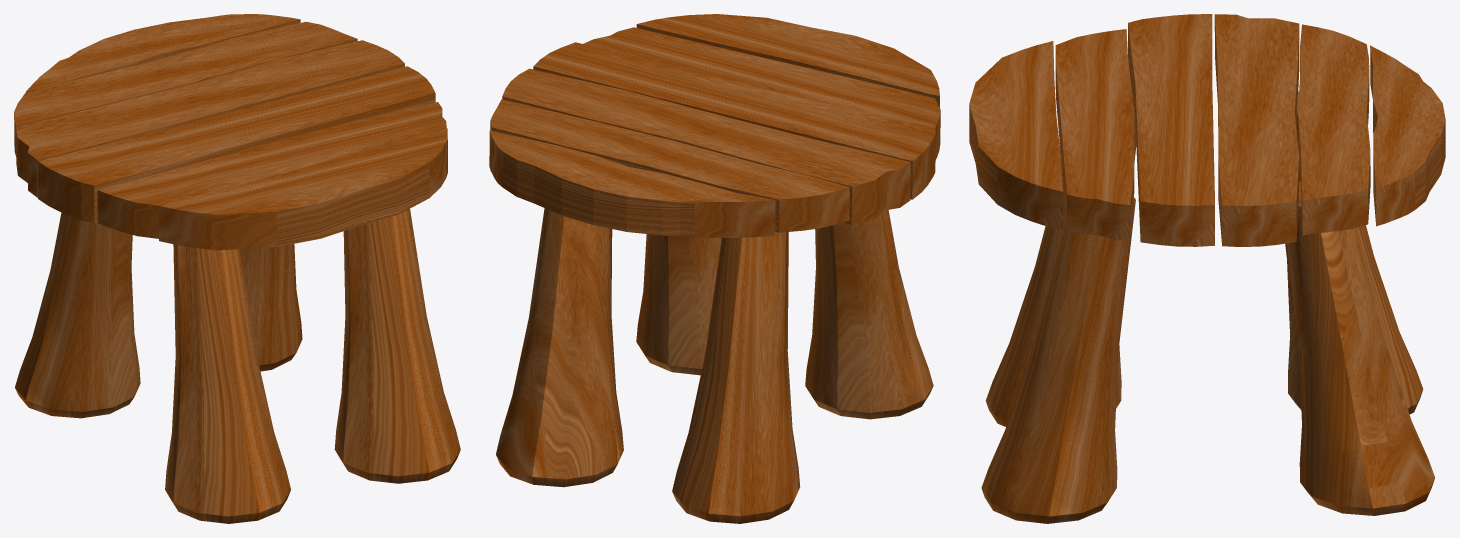
Rendered from littleChair.fbx.
The picture shows the model from 3 angles, left to right: view 1: azimuth 30°, elevation 25°; view 2: azimuth 150°, elevation 25°; view 3: azimuth 270°, elevation 25°; orthographic projection. The views are drawn at different scales.
Visible parts, largest first — view 1: Cube.010, Cube.008, Cube.003, Cube.011, Cube.001, Cube.004, Cube.002, Cube.005, Cube.006, Cube.012; view 2: Cube.011, Cube.012, Cube.010, Cube.006, Cube.004, Cube.001, Cube.005, Cube.002, Cube.003, Cube.008; view 3: Cube.008, Cube.012, Cube.004, Cube.001, Cube.002, Cube.005, Cube.003, Cube.006, Cube.010, Cube.011.
Part boxes in pixels (bbox=[...]): Cube.010: bbox=[165, 244, 290, 523]; Cube.008: bbox=[334, 209, 460, 483]; Cube.003: bbox=[159, 128, 447, 250]; Cube.011: bbox=[15, 212, 140, 418]; Cube.001: bbox=[37, 66, 435, 223]; Cube.004: bbox=[16, 40, 404, 197]; Cube.002: bbox=[97, 102, 446, 238]; Cube.005: bbox=[14, 21, 357, 156]; Cube.006: bbox=[25, 14, 300, 92]; Cube.012: bbox=[240, 244, 302, 371]; Cube.011: bbox=[672, 232, 800, 523]; Cube.012: bbox=[496, 208, 623, 487]; Cube.010: bbox=[805, 210, 933, 419]; Cube.006: bbox=[489, 130, 775, 238]; Cube.004: bbox=[502, 68, 910, 224]; Cube.001: bbox=[533, 42, 935, 199]; Cube.005: bbox=[490, 99, 849, 232]; Cube.002: bbox=[583, 27, 940, 159]; Cube.003: bbox=[636, 14, 939, 107]; Cube.008: bbox=[636, 234, 721, 375]; Cube.008: bbox=[981, 197, 1135, 523]; Cube.012: bbox=[1287, 181, 1434, 515]; Cube.004: bbox=[1214, 14, 1299, 246]; Cube.001: bbox=[1128, 14, 1214, 246]; Cube.002: bbox=[1055, 29, 1134, 240]; Cube.005: bbox=[1298, 24, 1370, 235]; Cube.003: bbox=[969, 41, 1063, 229]; Cube.006: bbox=[1370, 45, 1445, 226]; Cube.010: bbox=[985, 111, 1136, 426]; Cube.011: bbox=[1285, 91, 1423, 414].
Bounding box in the file's own units: 143 × 119 × 147.
